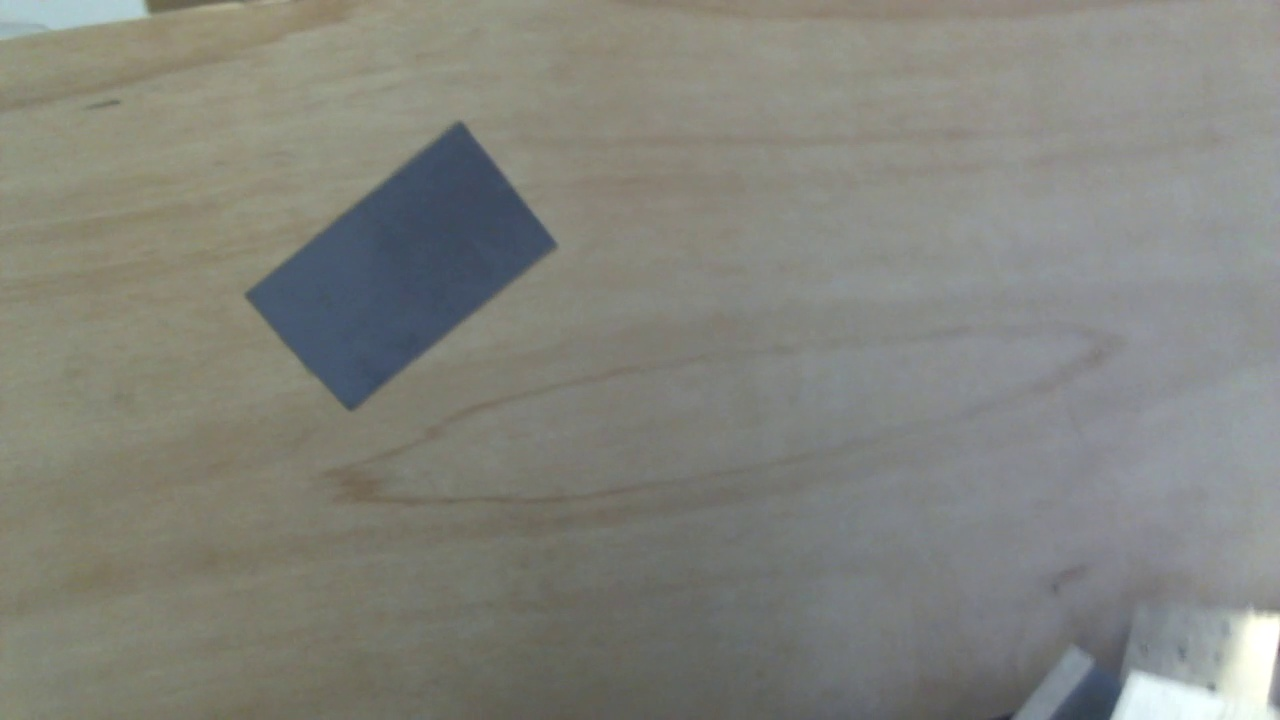Tape: (243, 122, 562, 415)
